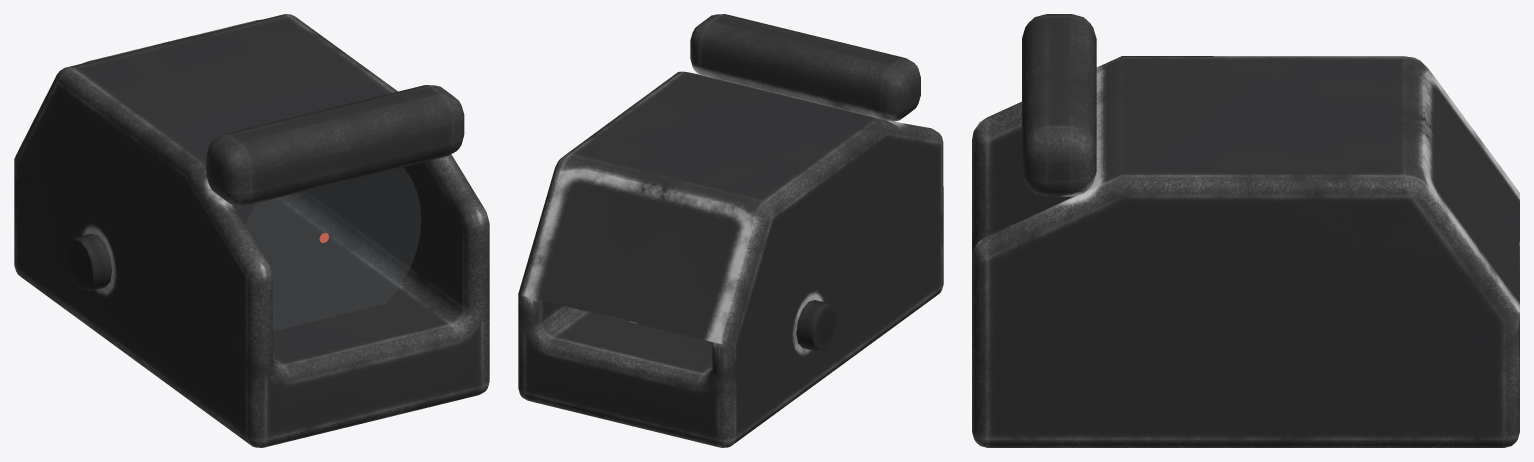
File: mrds.glb
The picture shows the model from 3 angles, left to right: view 1: azimuth 30°, elevation 25°; view 2: azimuth 150°, elevation 25°; view 3: azimuth 270°, elevation 25°; orthographic projection. The views are drawn at different scales.
Visible parts, largest first — view 1: body, lens_front; view 2: body; view 3: body.
Part boxes in pixels (x1,y1,x2,y2): body: [14, 14, 489, 447]; lens_front: [246, 167, 420, 330]; body: [518, 14, 943, 447]; body: [972, 14, 1519, 447].
Bounding box in the file's own units: 0.027 × 0.028 × 0.044.
3 materials, 1 textured.
